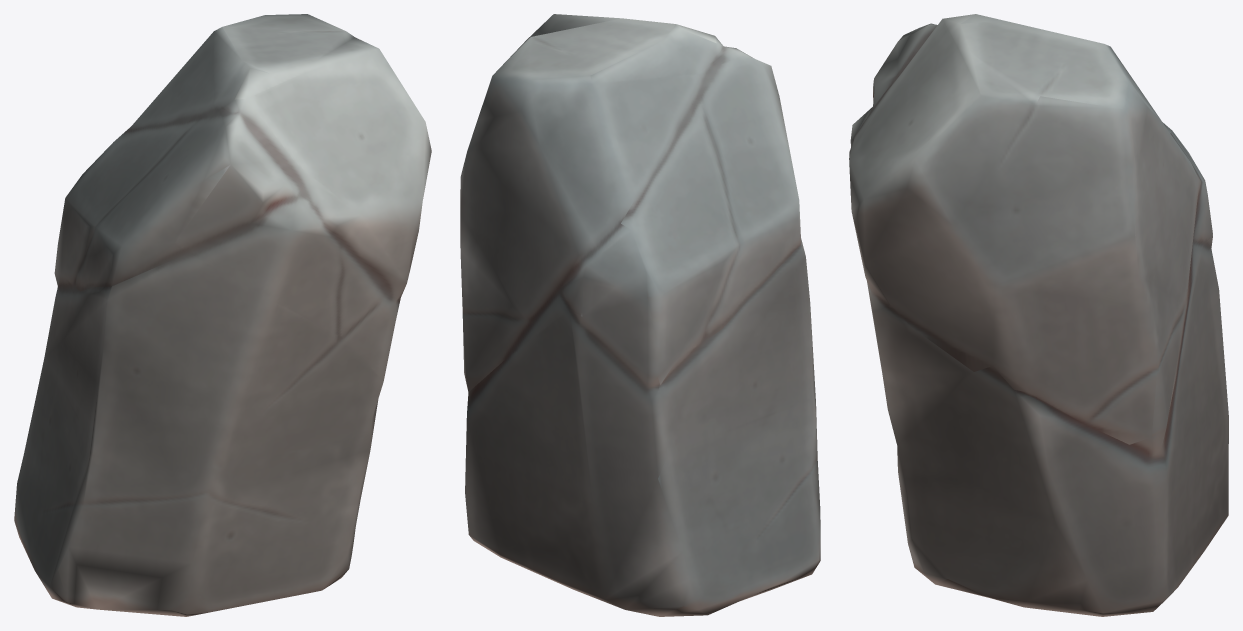
File: ROK0110018.fbx
3 renders of one model, left to right at view 1: azimuth 30°, elevation 25°; view 2: azimuth 150°, elevation 25°; view 3: azimuth 270°, elevation 25°, orthographic. The views are drawn at different scales.
Parts seen in each view (by area): view 1: smROK0110018; view 2: smROK0110018; view 3: smROK0110018.
Boxes of the visible parts, x1,y1,x2,y2 form: smROK0110018: [14, 14, 431, 616]; smROK0110018: [460, 14, 820, 616]; smROK0110018: [849, 14, 1228, 616].
Bounding box in the file's own units: 60.9 × 86.87 × 55.83.
Materials: 1 (1 with a texture image).
